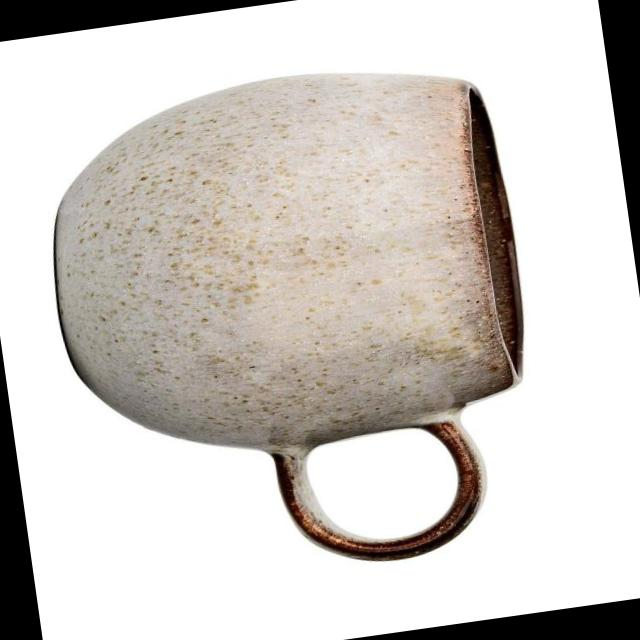Coffee Mug: (32, 46, 558, 600)
